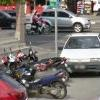cars: (58, 32, 100, 75), (0, 5, 18, 31)
